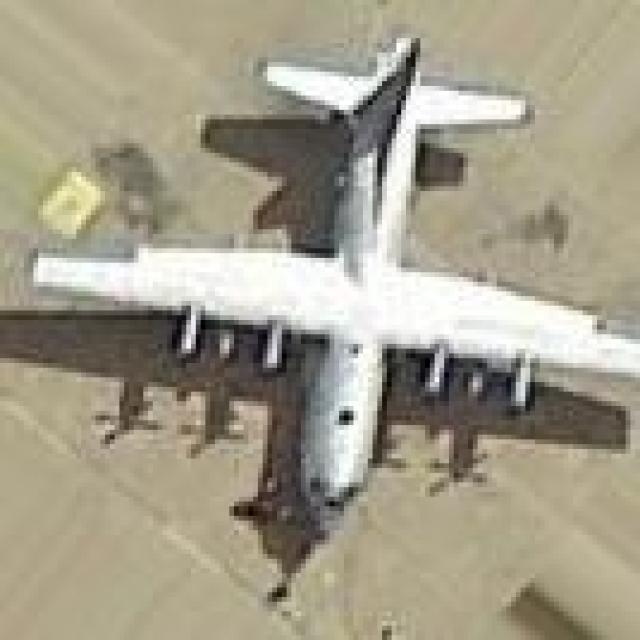C-130_TopDown: (0, 36, 640, 574)
